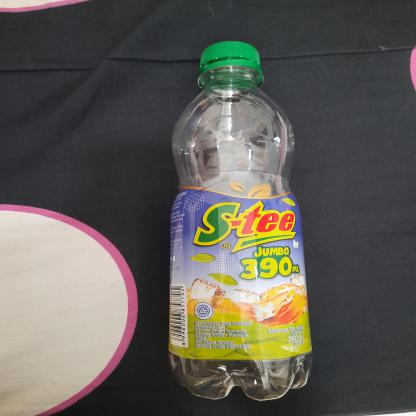bottle: (162, 37, 318, 406)
